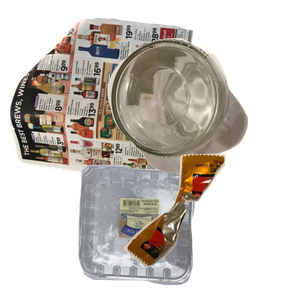glass: (105, 36, 300, 201)
paper: (10, 15, 196, 195)
plastic: (76, 162, 264, 300)
trash: (122, 151, 300, 300)
